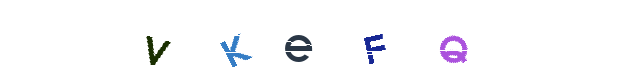E: (277, 0, 357, 80)
F: (333, 0, 413, 80)
K: (200, 0, 280, 80)
Q: (387, 0, 467, 80)
V: (199, 0, 279, 80)
